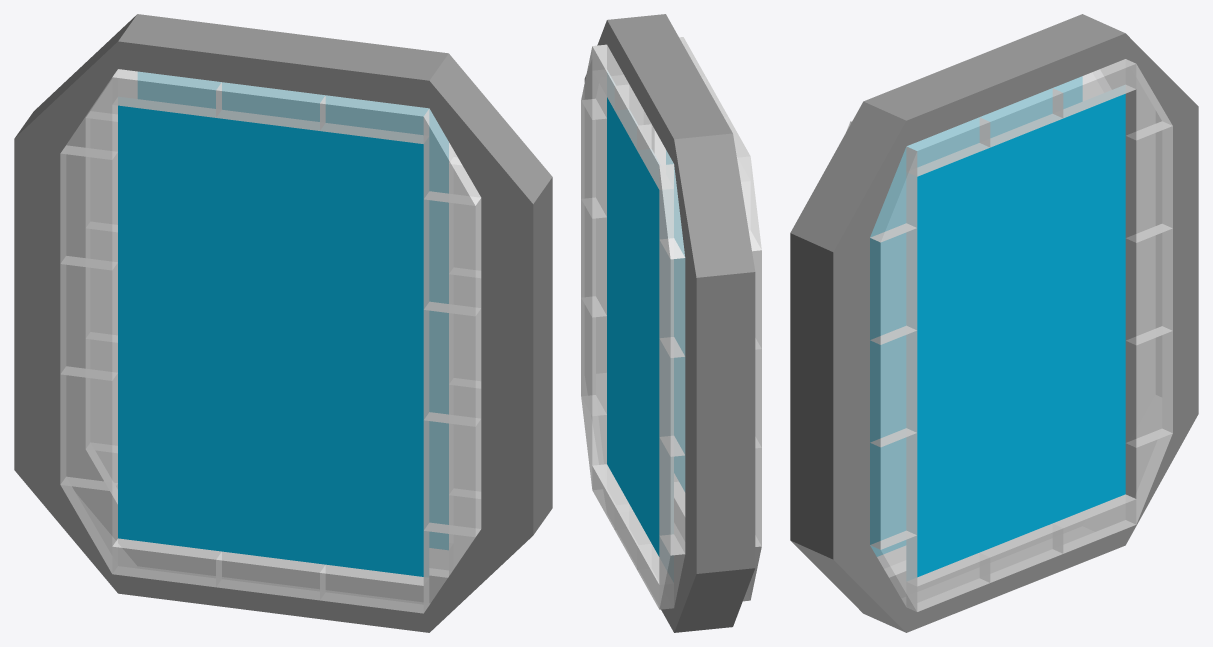
File: coinBlue.fbx
3 renders of one model, left to right at view 1: azimuth 30°, elevation 25°; view 2: azimuth 150°, elevation 25°; view 3: azimuth 270°, elevation 25°, orthographic. The views are drawn at different scales.
Parts seen in each view (by area): view 1: Cube; view 2: Cube; view 3: Cube.
Part boxes in pixels (x1=…): Cube: x1=14, y1=14, x2=552, y2=632; Cube: x1=581, y1=14, x2=761, y2=632; Cube: x1=790, y1=14, x2=1198, y2=632.
Bounding box in the file's own units: 62.19 × 90 × 65.03.
